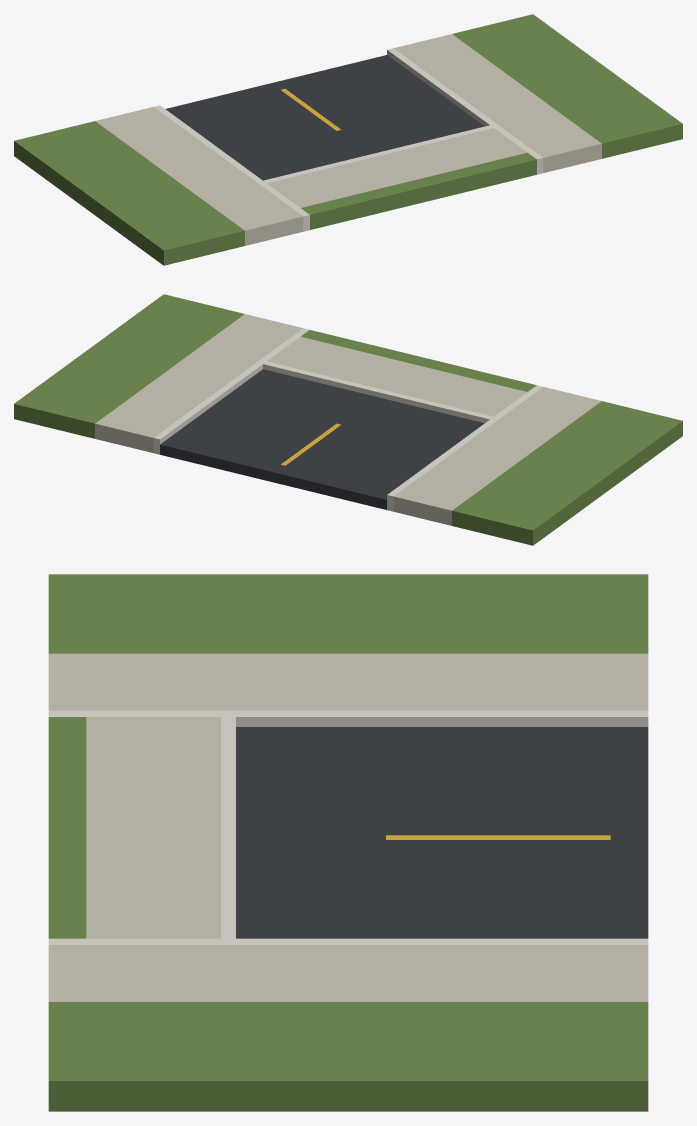
Rendered from Road_2Lane_Sidewalk_EndCap_DeadEnd.glb.
The picture shows the model from 3 angles, top to bottom: view 1: azimuth 30°, elevation 25°; view 2: azimuth 150°, elevation 25°; view 3: azimuth 270°, elevation 25°; orthographic projection. The views are drawn at different scales.
Parts seen in each view (by area): view 1: Road_2Lane_Sidewalk_EndCap_DeadEnd_Grass-edge, Road_2Lane_Sidewalk_EndCap_DeadEnd_Sidewalk, Road_2Lane_Sidewalk_EndCap_DeadEnd_Asphalt, Road_2Lane_Sidewalk_EndCap_DeadEnd_Curb; view 2: Road_2Lane_Sidewalk_EndCap_DeadEnd_Grass-edge, Road_2Lane_Sidewalk_EndCap_DeadEnd_Sidewalk, Road_2Lane_Sidewalk_EndCap_DeadEnd_Asphalt, Road_2Lane_Sidewalk_EndCap_DeadEnd_Curb; view 3: Road_2Lane_Sidewalk_EndCap_DeadEnd_Grass-edge, Road_2Lane_Sidewalk_EndCap_DeadEnd_Sidewalk, Road_2Lane_Sidewalk_EndCap_DeadEnd_Asphalt, Road_2Lane_Sidewalk_EndCap_DeadEnd_Curb, Road_2Lane_Sidewalk_EndCap_DeadEnd_PaintYellow.
Boxes of the visible parts, bbox=[...] form: Road_2Lane_Sidewalk_EndCap_DeadEnd_Grass-edge: bbox=[14, 14, 682, 265]; Road_2Lane_Sidewalk_EndCap_DeadEnd_Sidewalk: bbox=[95, 34, 601, 245]; Road_2Lane_Sidewalk_EndCap_DeadEnd_Asphalt: bbox=[165, 55, 484, 180]; Road_2Lane_Sidewalk_EndCap_DeadEnd_Curb: bbox=[154, 48, 543, 231]; Road_2Lane_Sidewalk_EndCap_DeadEnd_Grass-edge: bbox=[14, 294, 682, 545]; Road_2Lane_Sidewalk_EndCap_DeadEnd_Sidewalk: bbox=[95, 314, 601, 525]; Road_2Lane_Sidewalk_EndCap_DeadEnd_Asphalt: bbox=[160, 369, 484, 509]; Road_2Lane_Sidewalk_EndCap_DeadEnd_Curb: bbox=[153, 328, 542, 511]; Road_2Lane_Sidewalk_EndCap_DeadEnd_Grass-edge: bbox=[48, 574, 648, 1111]; Road_2Lane_Sidewalk_EndCap_DeadEnd_Sidewalk: bbox=[48, 653, 648, 1001]; Road_2Lane_Sidewalk_EndCap_DeadEnd_Asphalt: bbox=[236, 727, 648, 938]; Road_2Lane_Sidewalk_EndCap_DeadEnd_Curb: bbox=[48, 710, 648, 944]; Road_2Lane_Sidewalk_EndCap_DeadEnd_PaintYellow: bbox=[386, 835, 610, 839].
Size of the model in its own units: 16 by 0.45 by 8.
